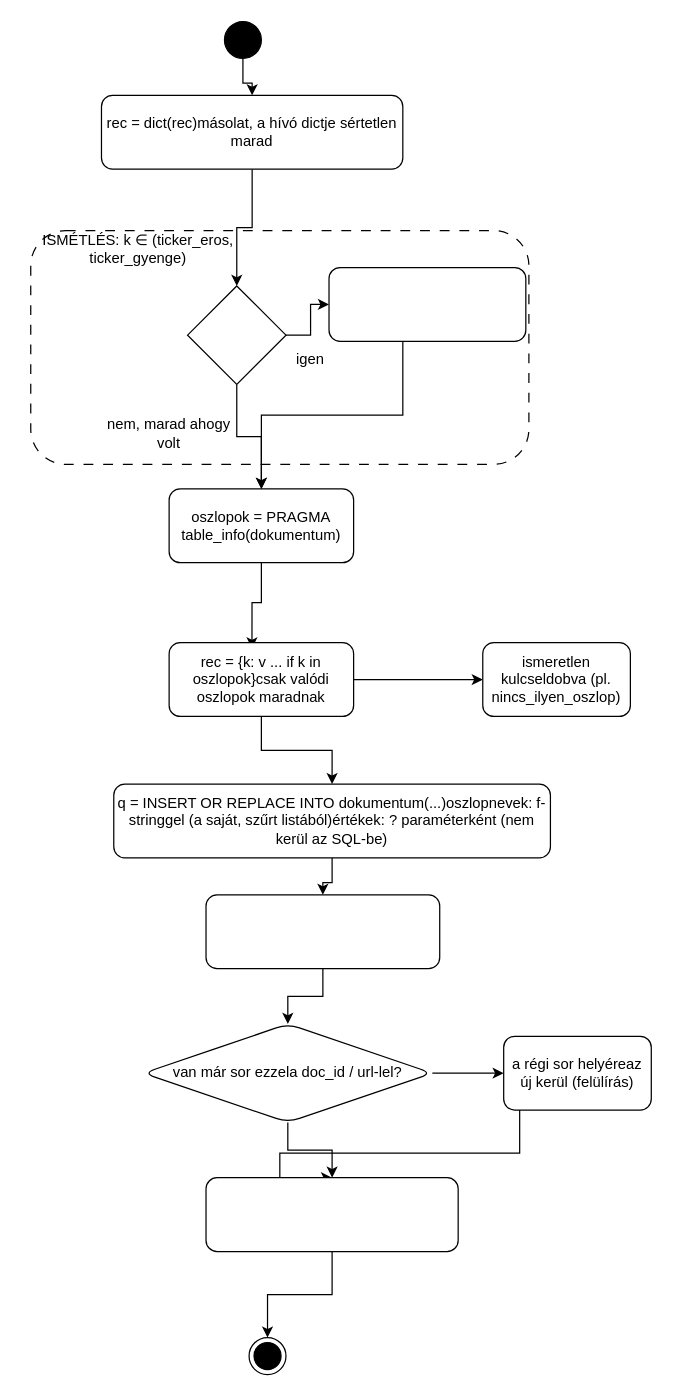
Some shapes in this 673 by 1396 pixel diagram are drawn without their labels. Each missing label, with the box of its shape:
con.execute(q, list(rec.values()): (205, 894, 440, 969)
json.dumps(rec[k], ensure_ascii=False az ékezetek olvashatók): (328, 266, 526, 341)
nincs commit a függvénybena hívó dönt: (205, 1176, 458, 1252)
rec[k] listavagy tuple?: (186, 285, 286, 384)
